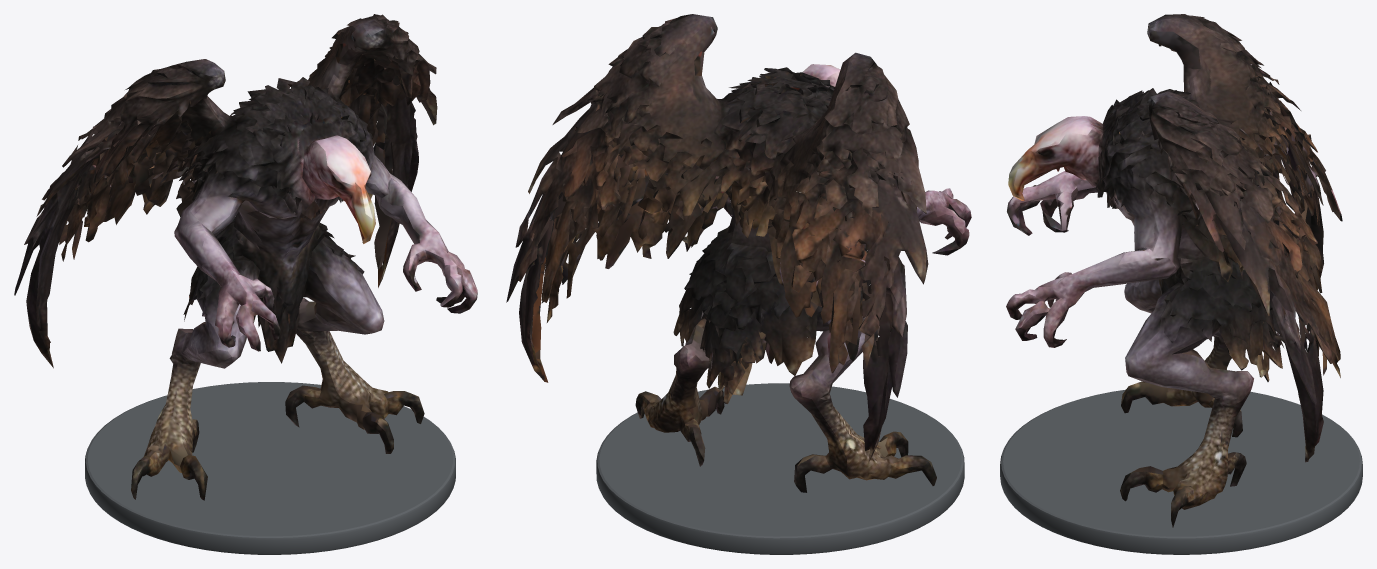
File: vrock.glb
The picture shows the model from 3 angles, left to right: view 1: azimuth 30°, elevation 25°; view 2: azimuth 150°, elevation 25°; view 3: azimuth 270°, elevation 25°; orthographic projection. The views are drawn at different scales.
Parts seen in each view (by area): view 1: vrock_body, vrock_round_base; view 2: vrock_body, vrock_round_base; view 3: vrock_body, vrock_round_base.
Boxes of the visible parts, x1,y1,x2,y2 form: vrock_body: [14, 14, 477, 500]; vrock_round_base: [85, 382, 455, 554]; vrock_body: [506, 14, 971, 492]; vrock_round_base: [596, 383, 964, 554]; vrock_body: [1006, 14, 1342, 527]; vrock_round_base: [1000, 389, 1362, 554].
Size of the model in its own units: 1.24 by 1.3 by 1.
Materials: 2 (1 with a texture image).
